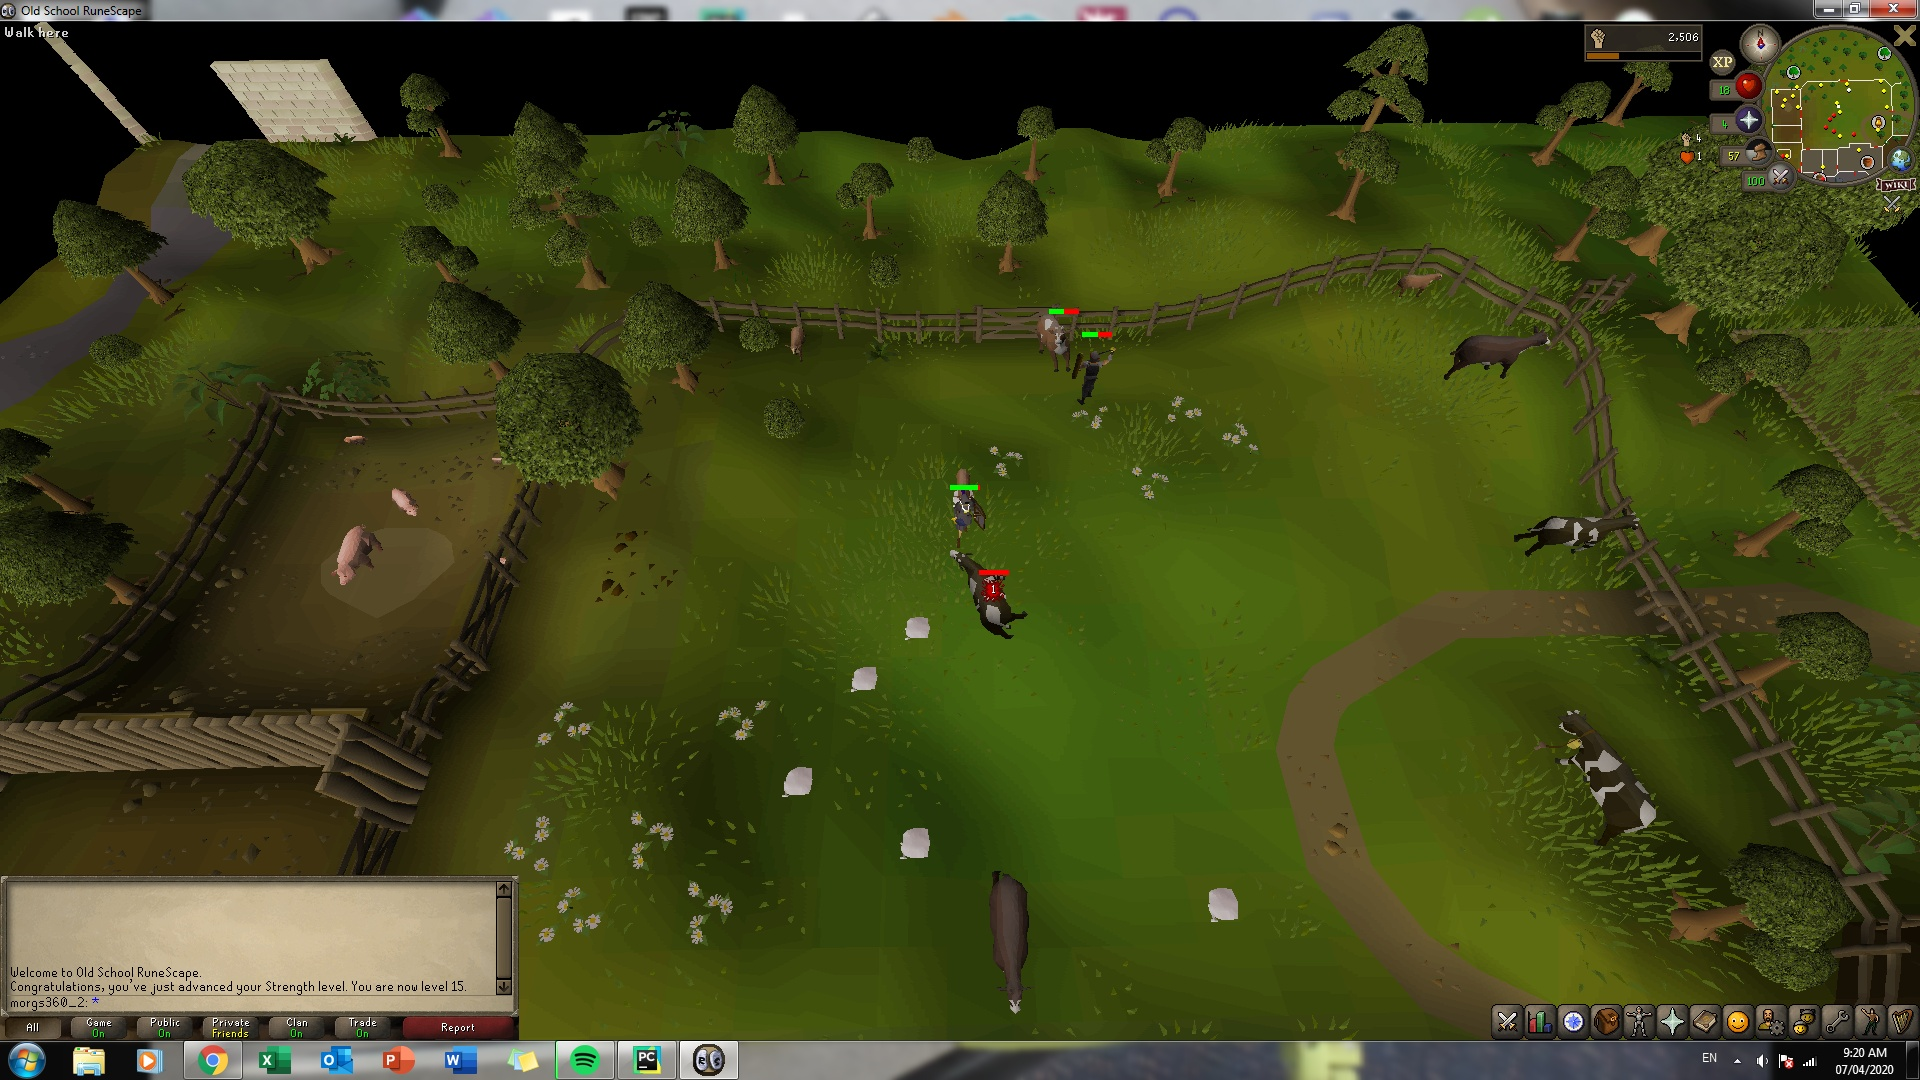cow: (981, 869, 1032, 1018), (953, 549, 1030, 640), (1444, 325, 1556, 382), (1516, 507, 1645, 555), (1031, 307, 1082, 374), (1396, 268, 1446, 296)
player: (950, 489, 982, 550)
